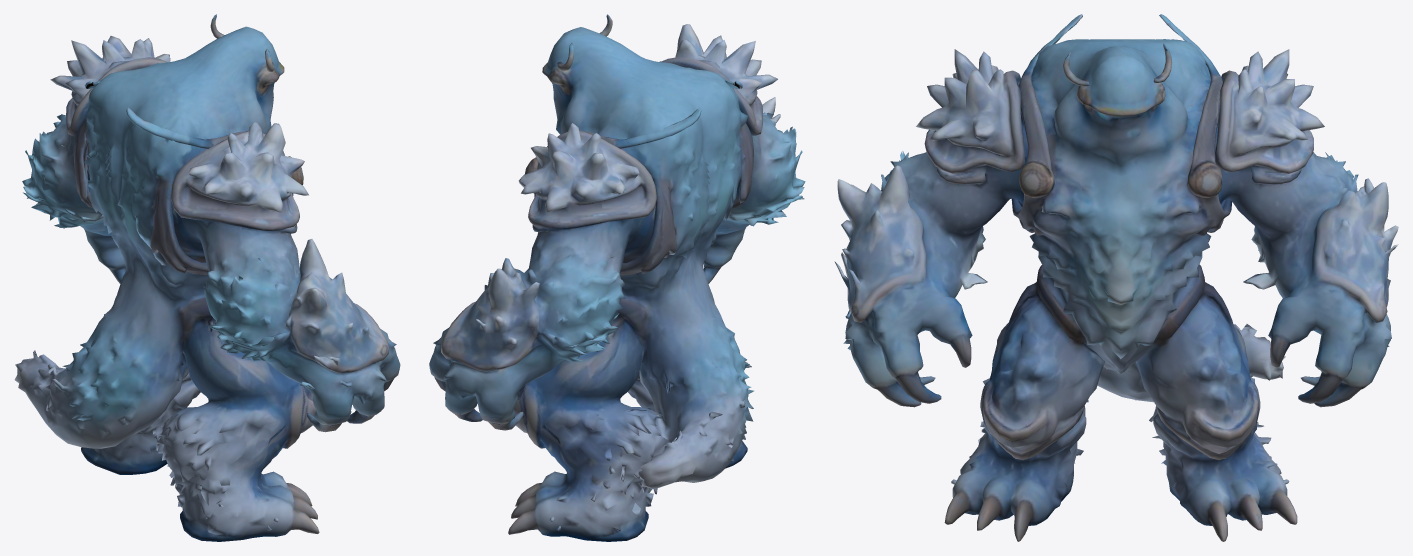
The model's file is Epic_Yeti_LOD1.glb.
3 renders of one model, left to right at view 1: azimuth 30°, elevation 25°; view 2: azimuth 150°, elevation 25°; view 3: azimuth 270°, elevation 25°, orthographic. The views are drawn at different scales.
Visible parts, largest first — view 1: tripo_node_92c6beda-1f7e-4aca-978d-1b1884d5e194; view 2: tripo_node_92c6beda-1f7e-4aca-978d-1b1884d5e194; view 3: tripo_node_92c6beda-1f7e-4aca-978d-1b1884d5e194.
Part boxes in pixels (x1,y1,x2,y2): tripo_node_92c6beda-1f7e-4aca-978d-1b1884d5e194: (14, 14, 400, 541); tripo_node_92c6beda-1f7e-4aca-978d-1b1884d5e194: (429, 14, 805, 541); tripo_node_92c6beda-1f7e-4aca-978d-1b1884d5e194: (834, 14, 1398, 541).
Size of the model in its own units: 0.499 by 0.9413 by 0.9902.
Materials: 1 (1 with a texture image).
